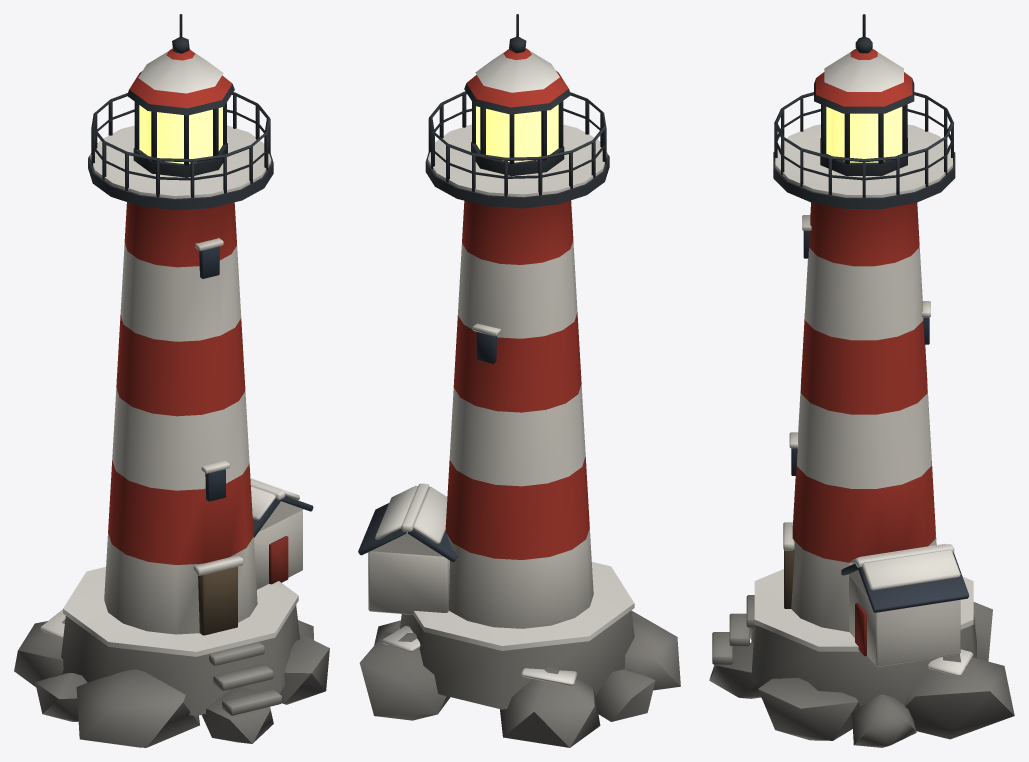
Rendered from lighthouse.glb.
3 views of the same model, side by side, from view 1: azimuth 30°, elevation 25°; view 2: azimuth 150°, elevation 25°; view 3: azimuth 270°, elevation 25° (orthographic).
Visible parts, largest first — view 1: lighthouse_white_paint, lighthouse_signal_red, lighthouse_snow, lighthouse_stone, lighthouse_concrete, lighthouse_iron, lighthouse_lamp, lighthouse_wood, lighthouse_glass, lighthouse_red_timber, lighthouse_slate; view 2: lighthouse_white_paint, lighthouse_signal_red, lighthouse_snow, lighthouse_stone, lighthouse_concrete, lighthouse_iron, lighthouse_lamp, lighthouse_slate, lighthouse_glass; view 3: lighthouse_white_paint, lighthouse_signal_red, lighthouse_snow, lighthouse_stone, lighthouse_iron, lighthouse_concrete, lighthouse_lamp, lighthouse_slate, lighthouse_wood, lighthouse_red_timber, lighthouse_glass.
Part boxes in pixels (<box>): lighthouse_white_paint: <box>104,238,303,634</box>; lighthouse_signal_red: <box>108,48,253,564</box>; lighthouse_snow: <box>40,51,299,656</box>; lighthouse_stone: <box>14,619,329,747</box>; lighthouse_concrete: <box>61,605,299,715</box>; lighthouse_iron: <box>88,14,273,210</box>; lighthouse_lamp: <box>139,105,222,163</box>; lighthouse_wood: <box>198,566,237,635</box>; lighthouse_glass: <box>199,246,225,501</box>; lighthouse_red_timber: <box>269,536,288,584</box>; lighthouse_slate: <box>252,496,313,537</box>; lighthouse_white_paint: <box>368,241,593,628</box>; lighthouse_signal_red: <box>445,48,589,559</box>; lighthouse_snow: <box>375,50,634,686</box>; lighthouse_stone: <box>359,611,680,747</box>; lighthouse_concrete: <box>400,610,634,709</box>; lighthouse_iron: <box>425,14,609,208</box>; lighthouse_lamp: <box>476,104,558,162</box>; lighthouse_slate: <box>358,503,457,561</box>; lighthouse_glass: <box>476,332,496,363</box>; lighthouse_white_paint: <box>783,215,960,666</box>; lighthouse_signal_red: <box>792,49,935,562</box>; lighthouse_snow: <box>754,52,973,676</box>; lighthouse_stone: <box>709,602,1014,747</box>; lighthouse_iron: <box>773,14,955,209</box>; lighthouse_concrete: <box>712,595,976,706</box>; lighthouse_lamp: <box>826,106,902,162</box>; lighthouse_slate: <box>841,553,969,612</box>; lighthouse_wood: <box>784,549,794,608</box>; lighthouse_red_timber: <box>855,603,866,656</box>; lighthouse_glass: <box>791,231,929,475</box>.
Size of the model in its own units: 6.94 by 16.93 by 6.75.
